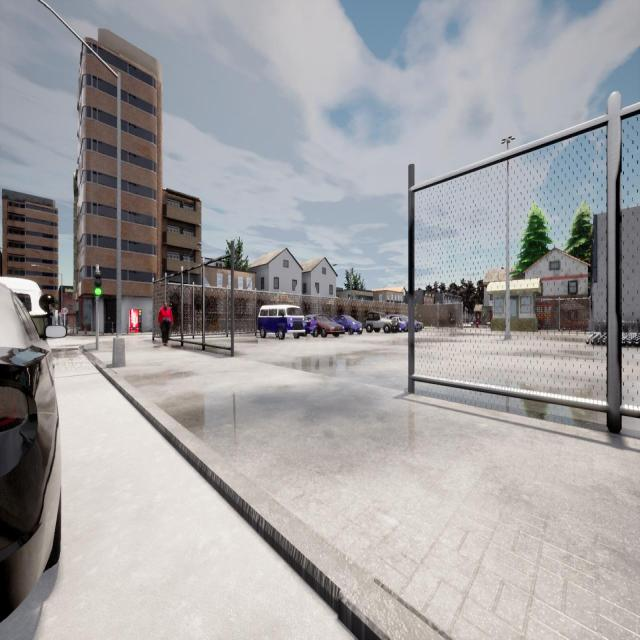Pedestrian: (158, 302, 173, 345)
Traffic_Signs: (61, 308, 68, 314), (59, 312, 63, 318)
Vehicle: (0, 283, 60, 619), (0, 278, 47, 340), (258, 306, 305, 340), (306, 314, 342, 337), (388, 314, 423, 332), (366, 312, 397, 332), (333, 315, 363, 334)
traffic_light: (94, 272, 102, 296)
